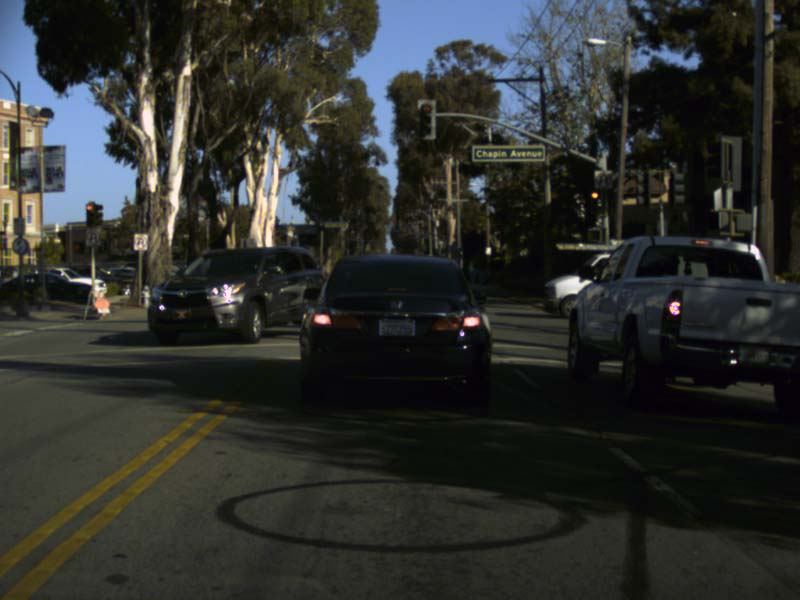Red: (420, 104, 431, 135), (85, 203, 95, 226), (589, 190, 597, 214)
